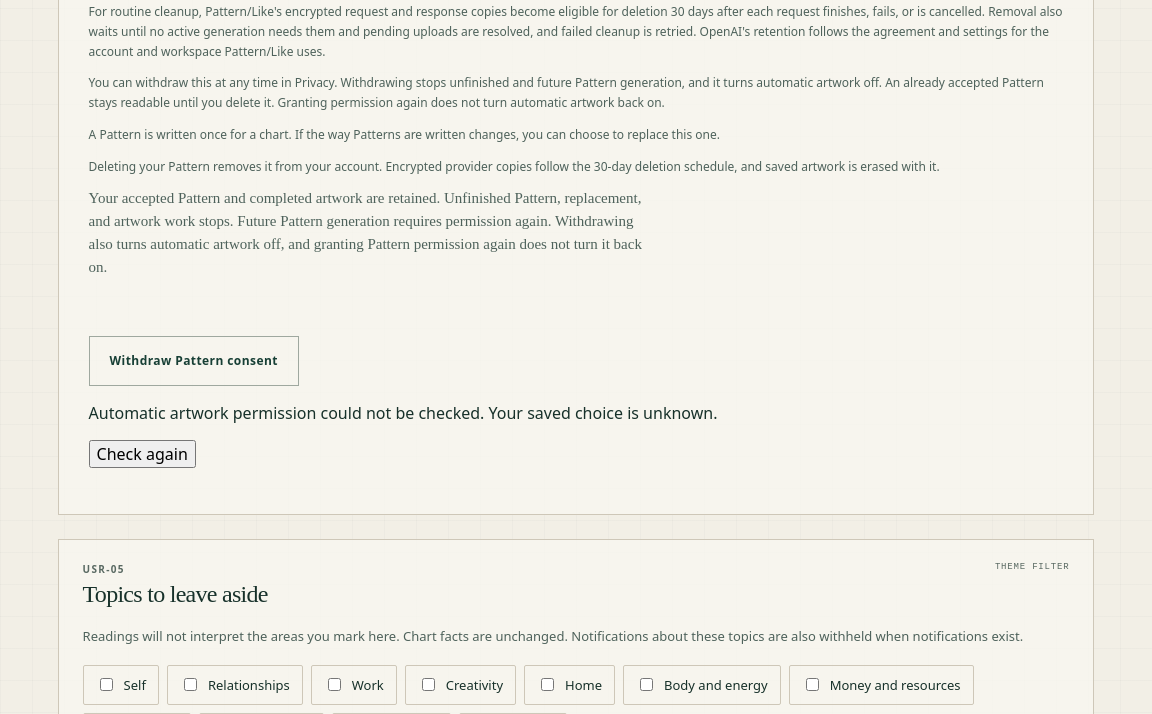
Test: Context & privacy › rechecks Pattern consent and requires another explicit decision when the observation changed
The image size is (1152, 714).
(page scrolled)
Click the button "Withdraw Pattern consent": x=194, y=361 [89, 336, 299, 386]
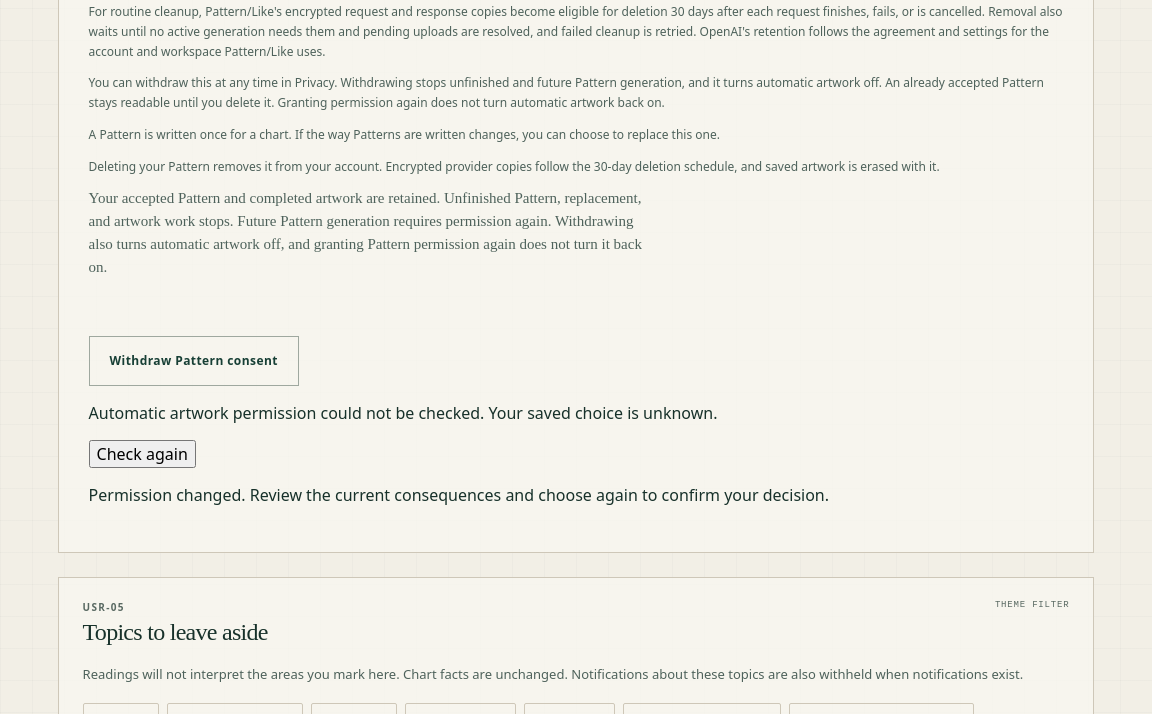
Check: the text "Permission changed. Review the current consequences" is shown, box [89, 484, 829, 506]
